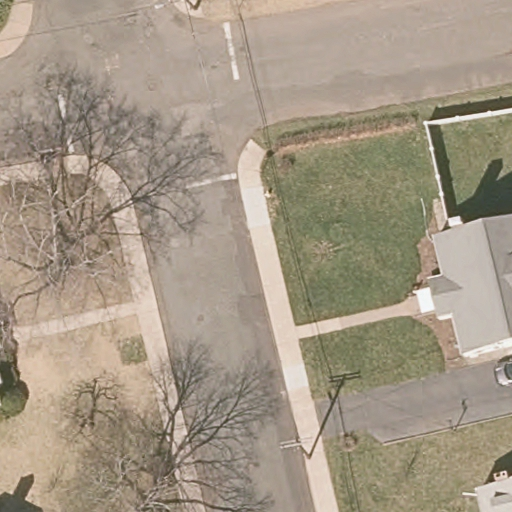DT: (152, 1, 200, 25), (279, 437, 315, 463)
